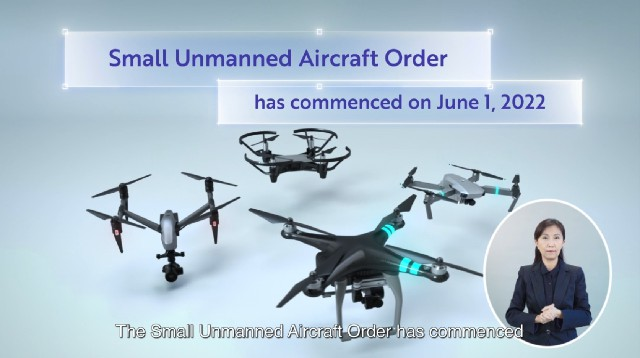maybay_khongnguoilai: (251, 202, 475, 313), (91, 175, 234, 272), (232, 125, 353, 184), (403, 156, 528, 211)
